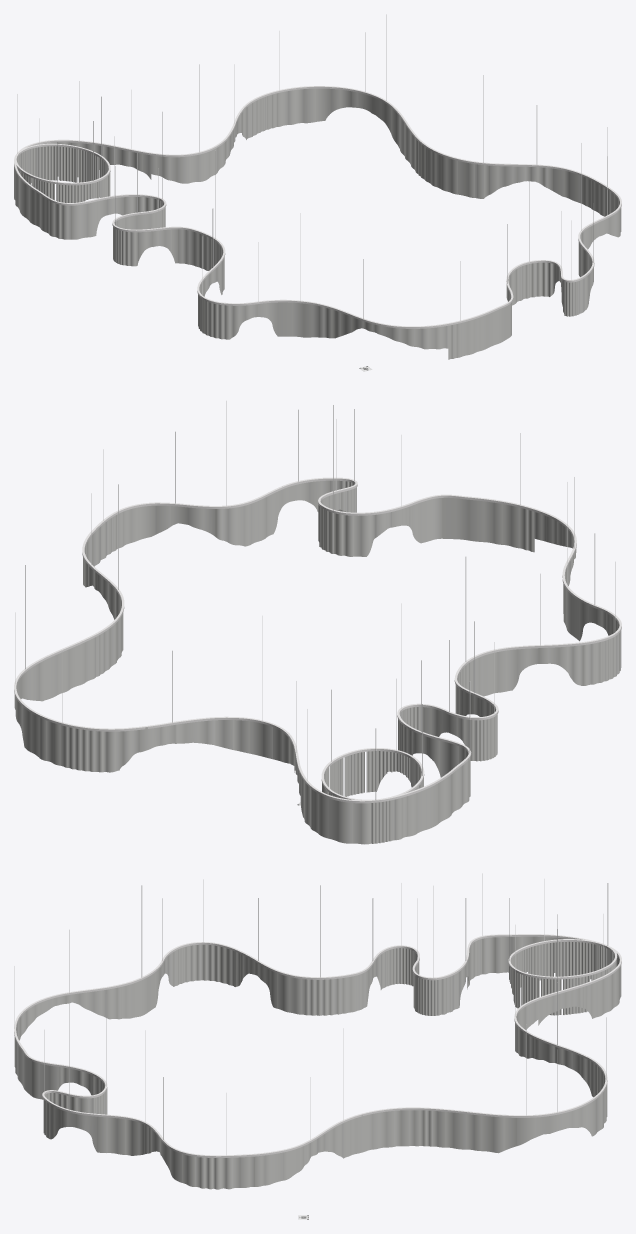
The model's file is project6.glb.
The picture shows the model from 3 angles, top to bottom: view 1: azimuth 30°, elevation 25°; view 2: azimuth 150°, elevation 25°; view 3: azimuth 270°, elevation 25°; orthographic projection. The views are drawn at different scales.
Visible parts, largest first — view 1: festék - fényes fehér; view 2: festék - fényes fehér; view 3: festék - fényes fehér.
Boxes of the visible parts, x1,y1,x2,y2 form: festék - fényes fehér: (14,14,621,359); festék - fényes fehér: (14,401,621,844); festék - fényes fehér: (14,873,621,1189).
Bounding box in the file's own units: 25.28 × 13.76 × 29.23.
4 materials, 1 textured.
